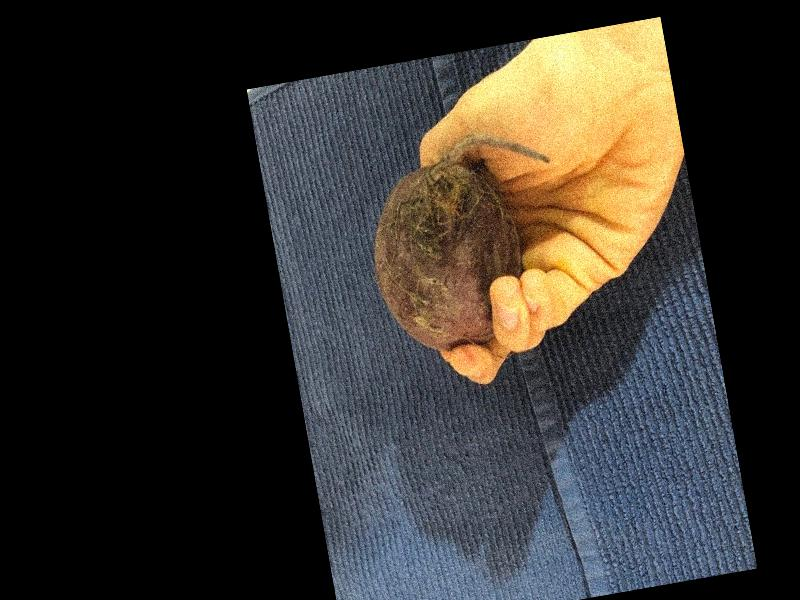Beet: (357, 124, 581, 360)
